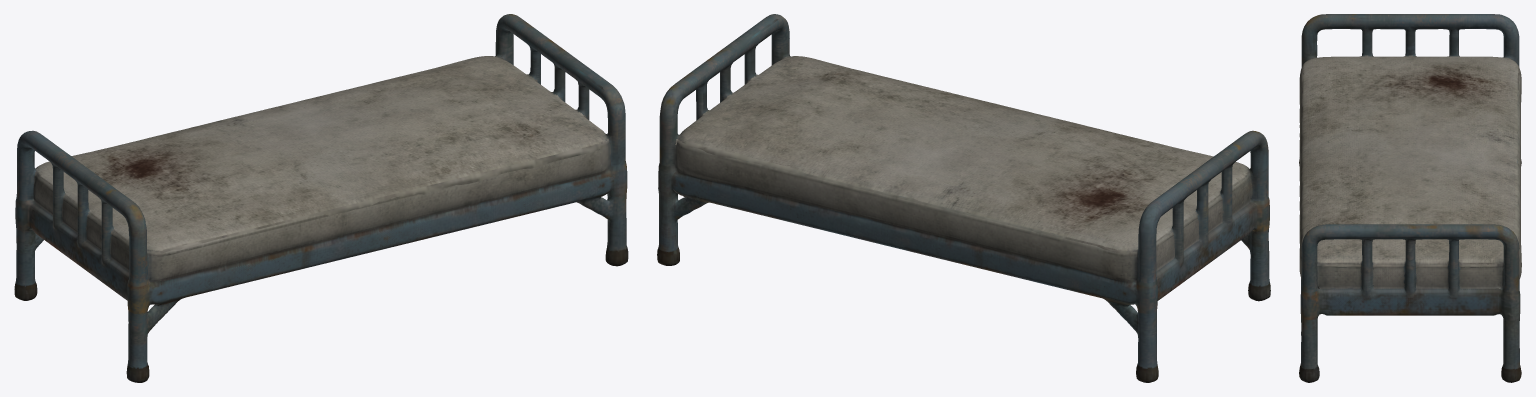
The model's file is bunker_medical_cot.glb.
The picture shows the model from 3 angles, left to right: view 1: azimuth 30°, elevation 25°; view 2: azimuth 150°, elevation 25°; view 3: azimuth 270°, elevation 25°; orthographic projection. The views are drawn at different scales.
Bounding box in the file's own units: 1.01 × 0.3332 × 0.4331.
Materials: 1 (1 with a texture image).
